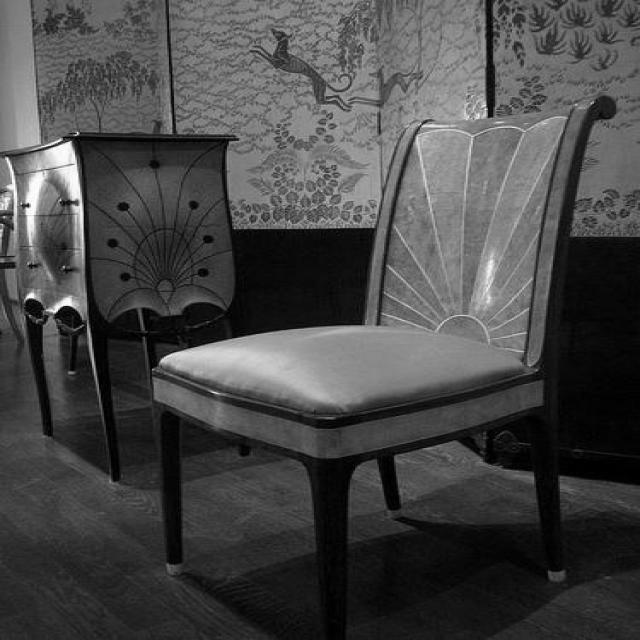chair: (152, 96, 607, 618)
